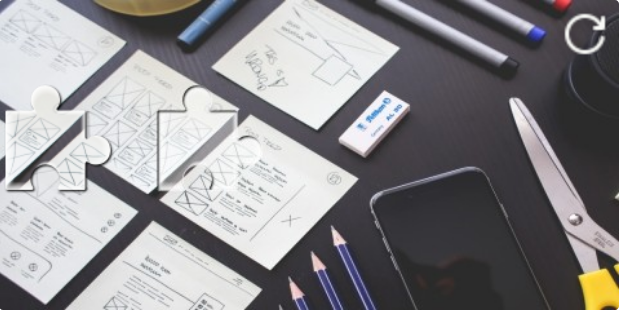target: (158, 85, 262, 190)
